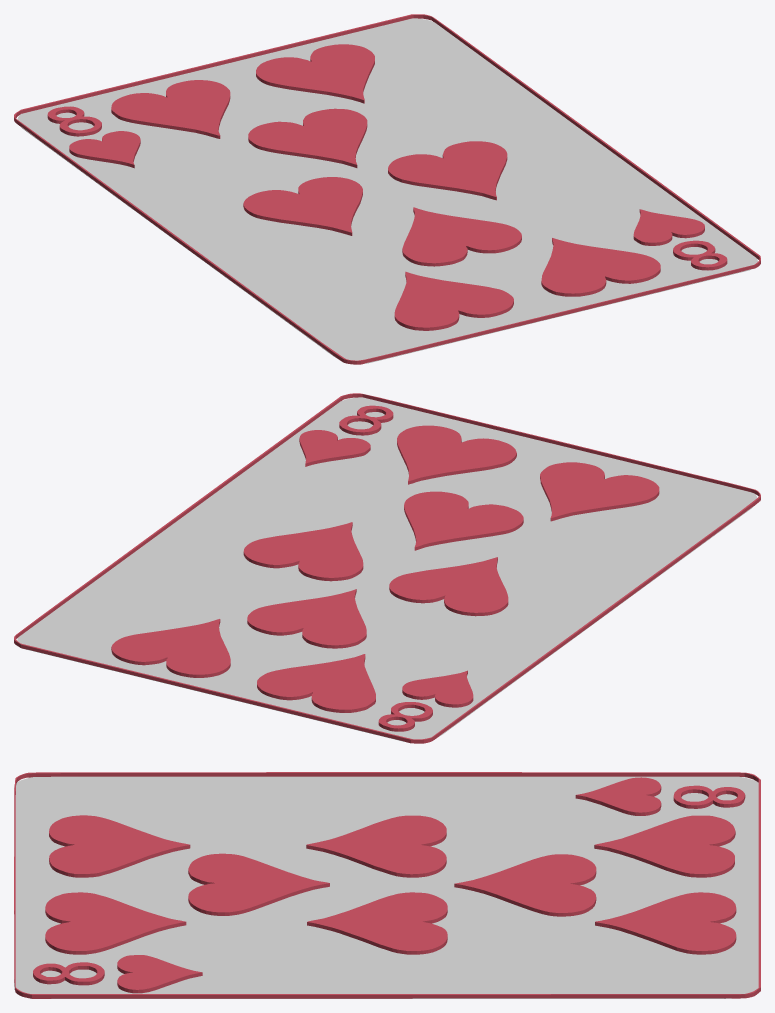
Rendered from 8_hearts.glb.
The picture shows the model from 3 angles, top to bottom: view 1: azimuth 30°, elevation 25°; view 2: azimuth 150°, elevation 25°; view 3: azimuth 270°, elevation 25°; orthographic projection. The views are drawn at different scales.
Parts seen in each view (by area): view 1: Mesh_Mesh_head_geo.001_lambert2SG.001; view 2: Mesh_Mesh_head_geo.001_lambert2SG.001; view 3: Mesh_Mesh_head_geo.001_lambert2SG.001.
Boxes of the visible parts, left/top/right/bottom form: Mesh_Mesh_head_geo.001_lambert2SG.001: left=14, top=14, right=760, bottom=364; Mesh_Mesh_head_geo.001_lambert2SG.001: left=14, top=393, right=760, bottom=743; Mesh_Mesh_head_geo.001_lambert2SG.001: left=14, top=772, right=760, bottom=998.
Bounding box in the file's own units: 1.2 × 0.01 × 1.7.
